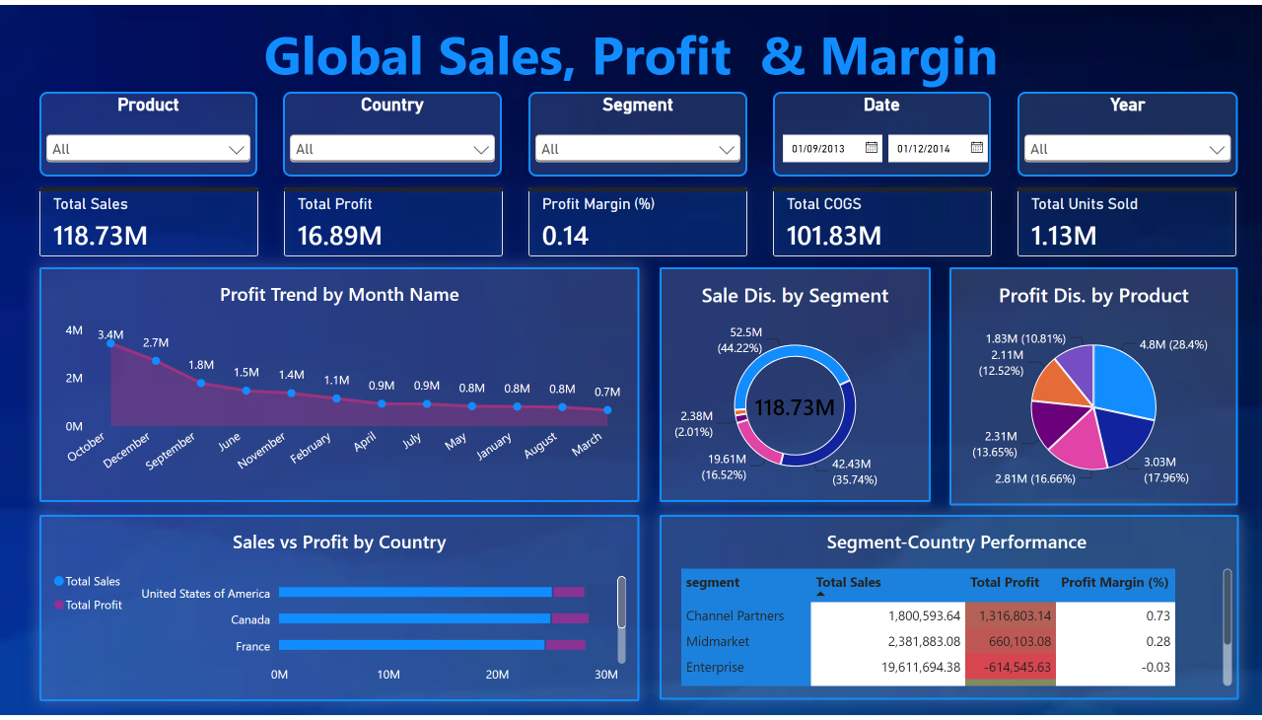

This screenshot's page, from the dashboard's own definition file:
{"tool":"powerbi","page":{"name":"Sales and Profit Margin Analysis","canvas":[1280,720],"ordinal":0},"visuals":[{"type":"slicer","title":"Segment","fields":{"Values":["sales.segment"]},"box":[536.2,88.3,222.1,85.9],"z":2000},{"type":"donutChart","title":"Sale Dis. by Segment","fields":{"Category":["sales.segment"],"Y":["sales.Total Sales"]},"box":[668.7,266.3,274.8,238],"z":3000},{"type":"slicer","title":"Country","fields":{"Values":["sales.country"]},"box":[287.1,88.3,222.1,85.9],"z":4000},{"type":"pieChart","title":"Profit Dis. by Product","fields":{"Category":["sales.product"],"Y":["sales.Total Profit"]},"box":[962.9,266.2,292.5,241.2],"z":6000},{"type":"slicer","title":"Product","fields":{"Values":["sales.product"]},"box":[40.5,88.3,220.9,85.9],"z":7000},{"type":"areaChart","title":"Profit Trend by Month Name","fields":{"Category":["sales.month_name"],"Y":["sales.Total Profit"]},"box":[40.5,266.3,608.6,238],"z":8000},{"type":"slicer","title":"Date","fields":{"Values":["sales.date"]},"box":[784.1,88.3,220.9,85.9],"z":9000},{"type":"slicer","title":"Year","fields":{"Values":["sales.year"]},"box":[1031.9,88.3,223.3,85.9],"z":11000},{"type":"pivotTable","title":"Segment-Country Performance","fields":{"Rows":["sales.segment","sales.country"],"Values":["sales.Total Sales","sales.Total Profit","sales.Profit Margin (%)"]},"box":[668.7,516.6,587.7,187.7],"z":15000},{"type":"barChart","title":"Sales vs Profit by Country","fields":{"Category":["sales.country"],"Y":["sales.Total Sales","sales.Total Profit"]},"box":[40.5,516.6,608.6,189],"z":17000},{"type":"cardVisual","fields":{"Data":["sales.Total Sales","sales.Total Profit","sales.Profit Margin (%)","sales.Total COGS","sales.Total Units Sold"]},"box":[29.4,174.2,1240.5,92],"z":18001},{"type":"textbox","box":[40.5,13.5,1214.7,74.8],"z":18002}]}

Visuals, with their boxes in screenshot pixels (x1, y1, x2, y2), scaled from the page's 1280x720 canvas onto the 1262x720 screenshot:
"Segment" slicer: [x1=529, y1=88, x2=748, y2=174]
"Sale Dis. by Segment" donutChart: [x1=659, y1=266, x2=930, y2=504]
"Country" slicer: [x1=283, y1=88, x2=502, y2=174]
"Profit Dis. by Product" pieChart: [x1=949, y1=266, x2=1238, y2=507]
"Product" slicer: [x1=40, y1=88, x2=258, y2=174]
"Profit Trend by Month Name" areaChart: [x1=40, y1=266, x2=640, y2=504]
"Date" slicer: [x1=773, y1=88, x2=991, y2=174]
"Year" slicer: [x1=1017, y1=88, x2=1238, y2=174]
"Segment-Country Performance" pivotTable: [x1=659, y1=517, x2=1239, y2=704]
"Sales vs Profit by Country" barChart: [x1=40, y1=517, x2=640, y2=706]
cardVisual - sales.Total Sales x sales.Total Profit: [x1=29, y1=174, x2=1252, y2=266]
textbox: [x1=40, y1=14, x2=1238, y2=88]
